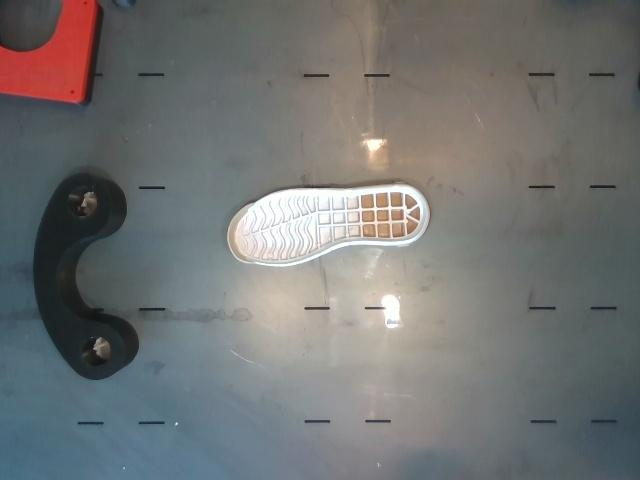shoes: (227, 188, 426, 264)
